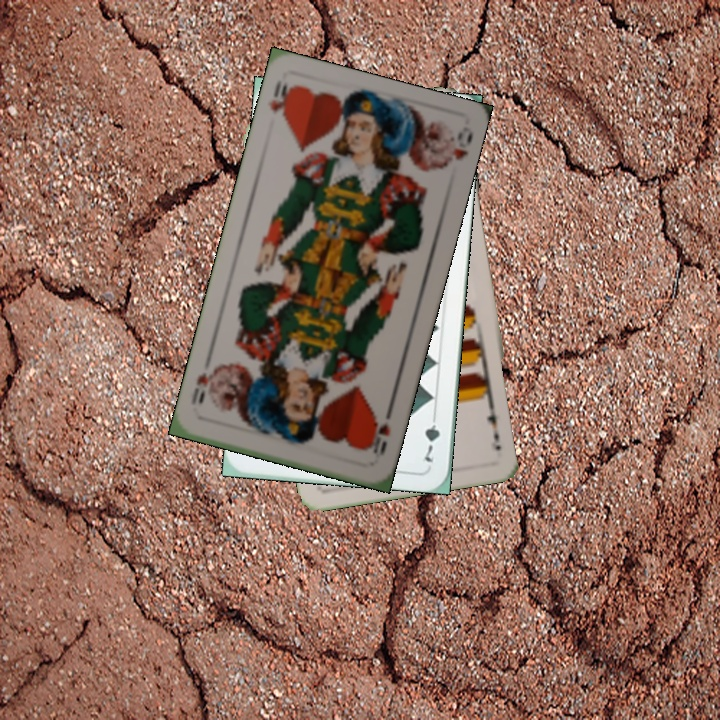E7: (483, 397, 502, 444)
G7: (421, 407, 443, 465)
HO: (363, 404, 395, 458), (265, 76, 297, 123)
